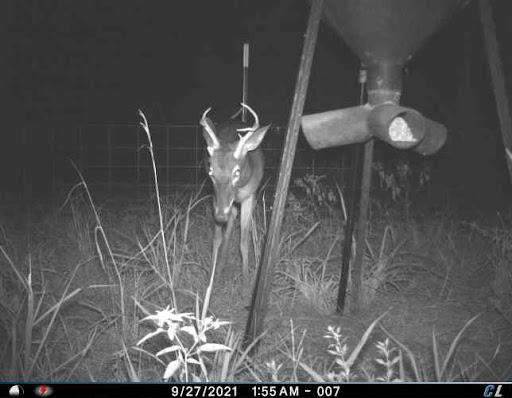Deer: (193, 95, 273, 292)
